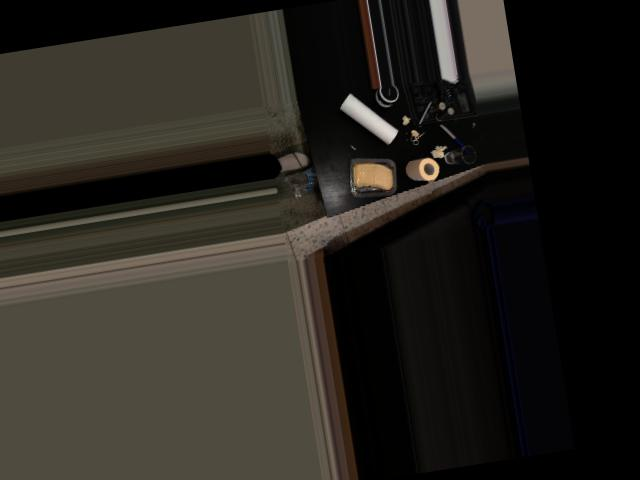cheese: (340, 150, 401, 203)
